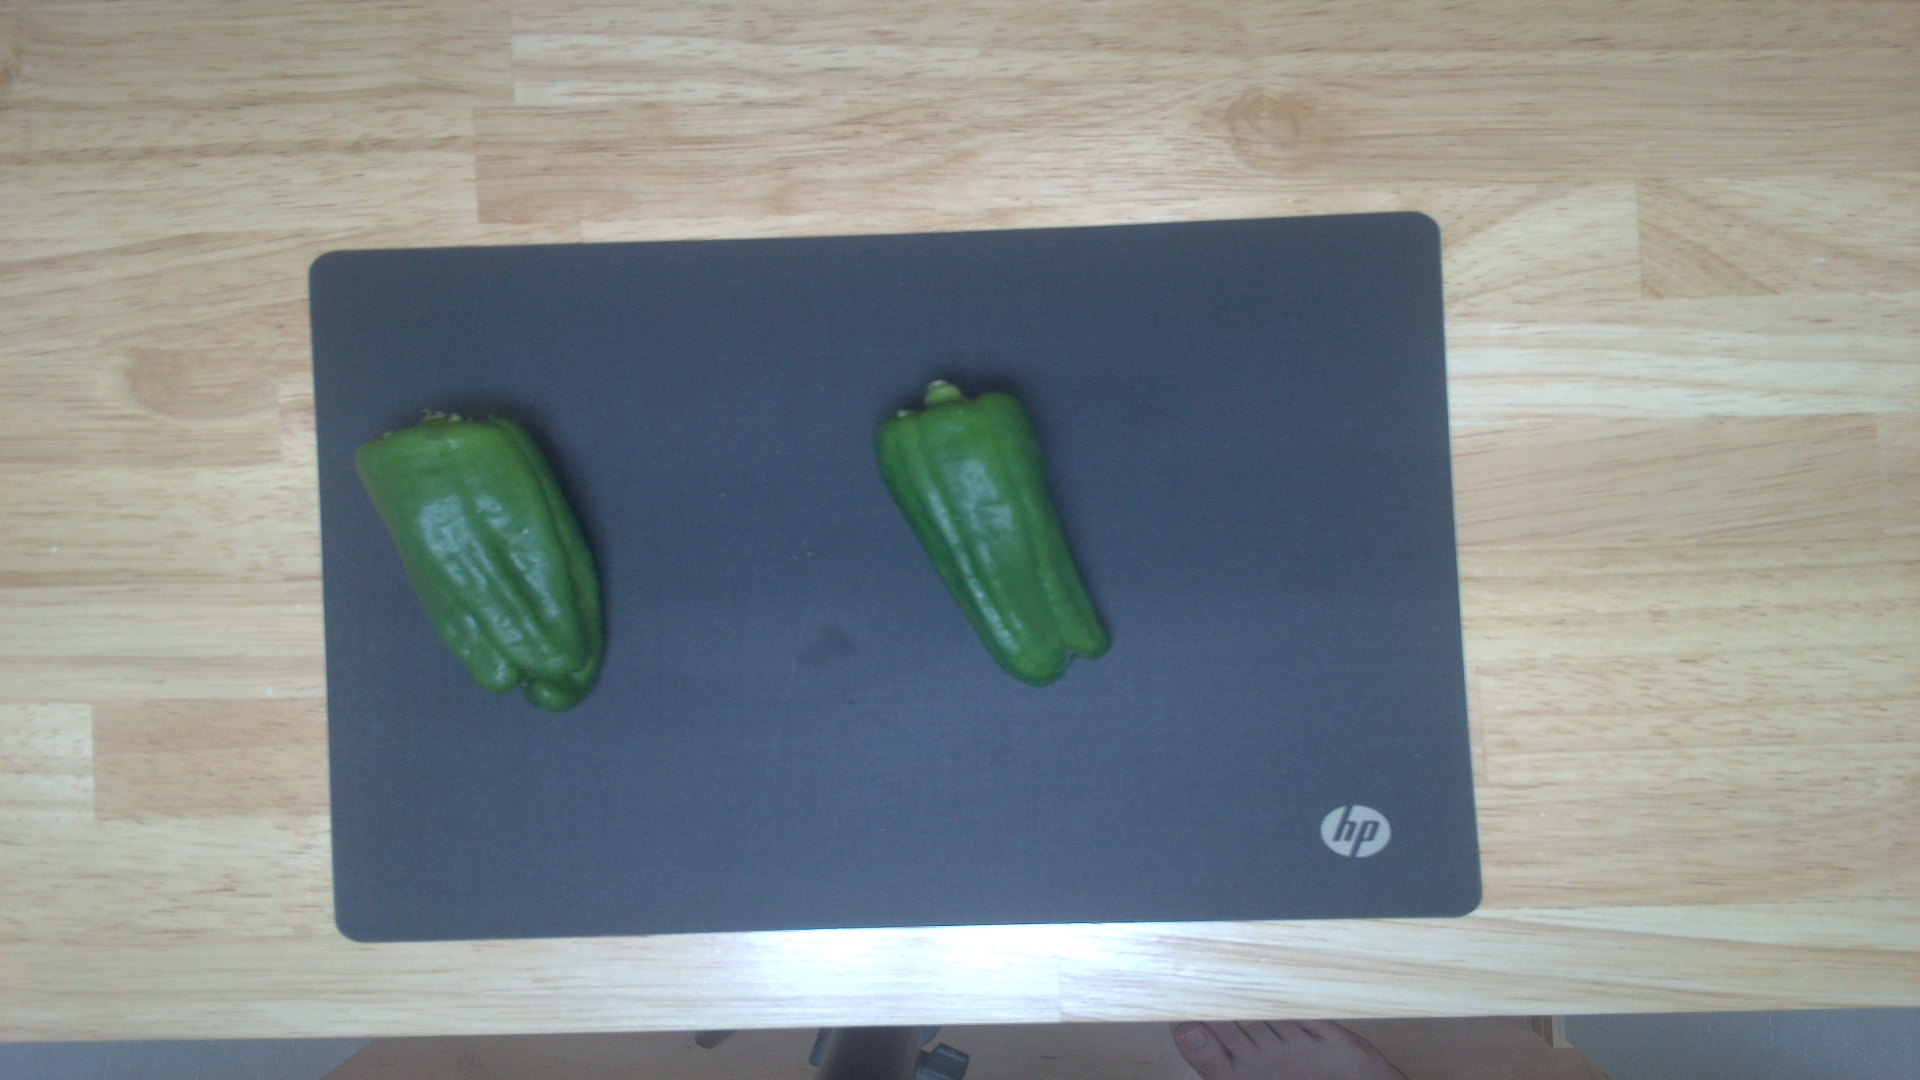Piman: (349, 404, 615, 715), (872, 375, 1110, 682)
